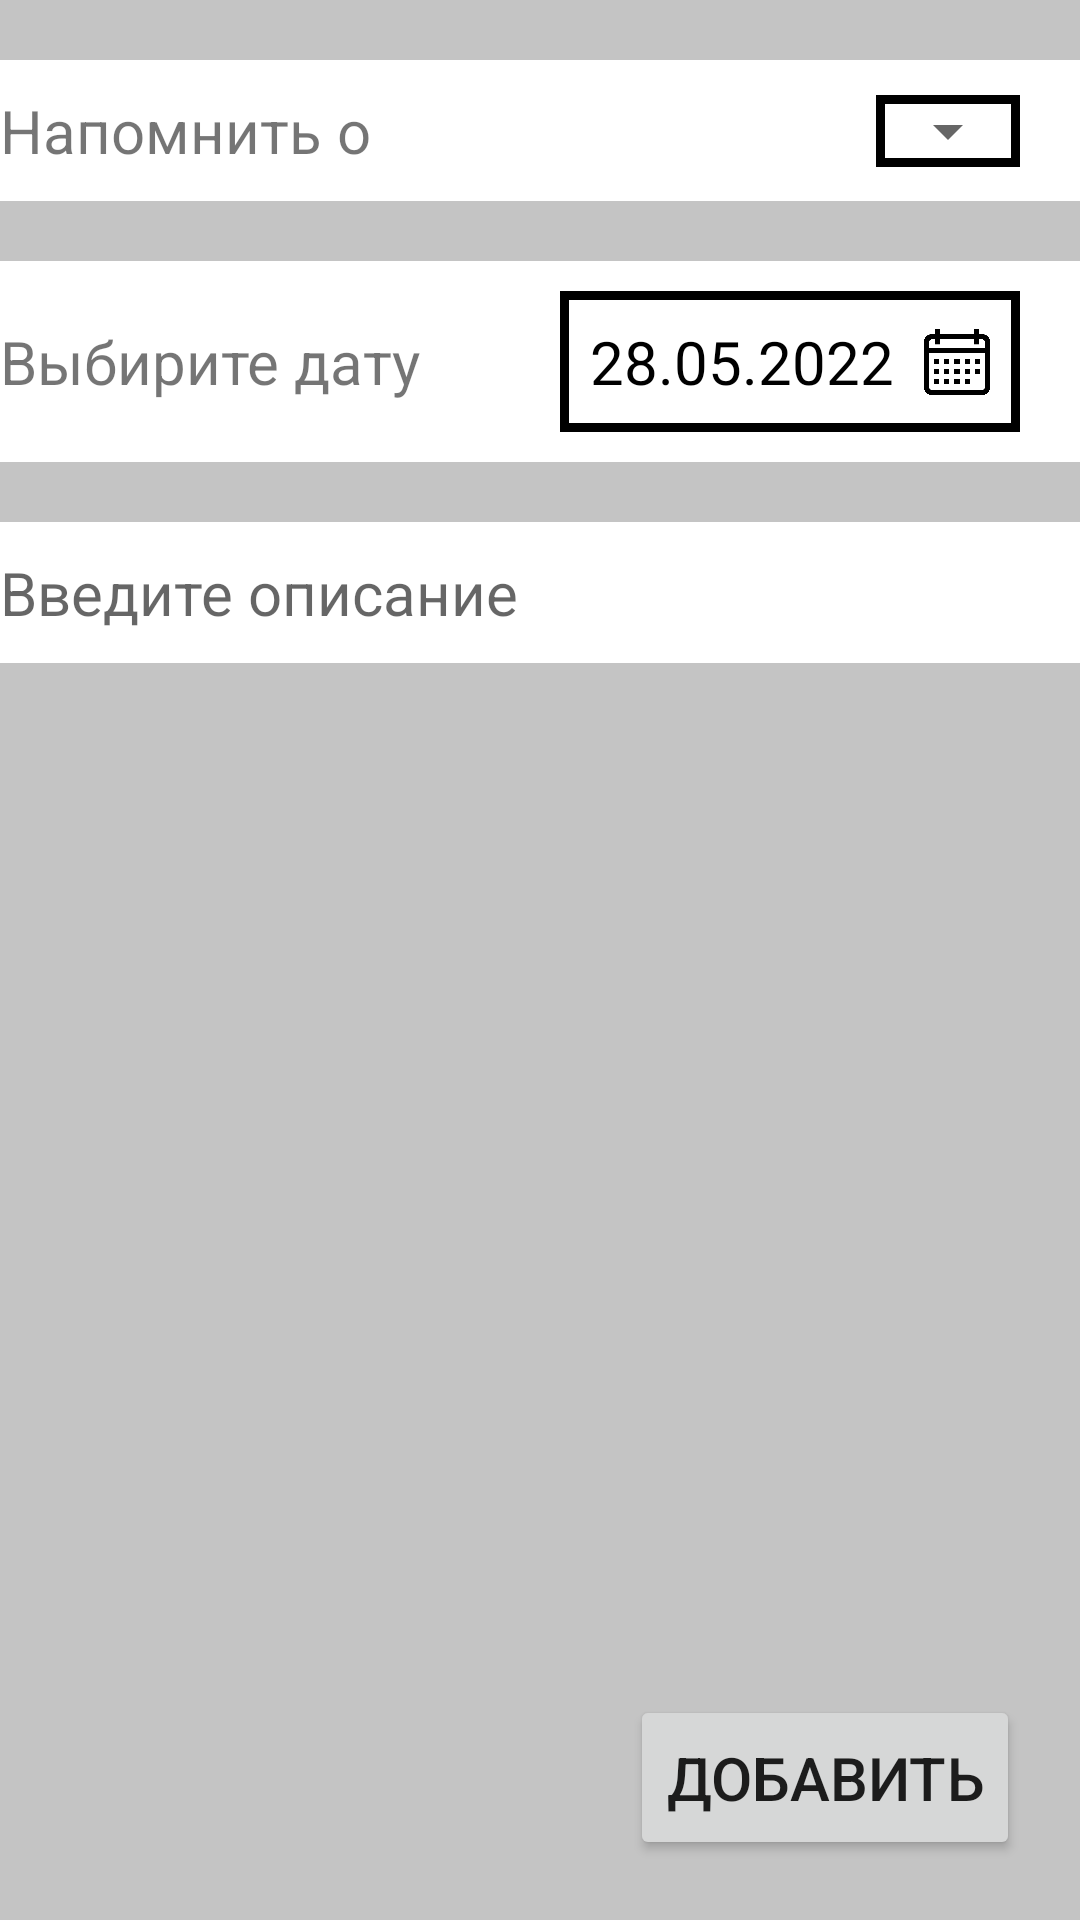

Named icons in this screenshot (1080px x 1920px) and their bounding boxes, [left=x1, top=y1, right=x2, bottom=y2]:
calendar: [left=924, top=329, right=990, bottom=395]
